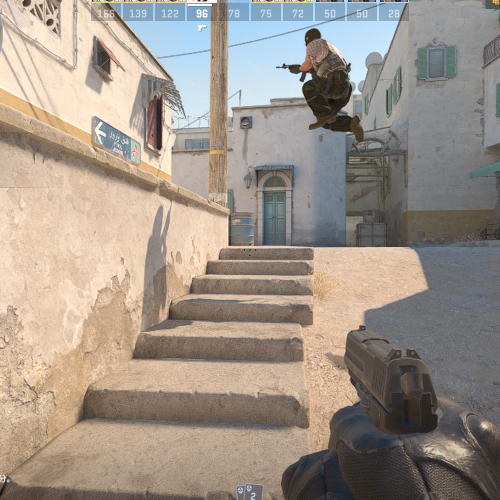t_body: (300, 29, 366, 143)
t_head: (305, 29, 322, 47)
